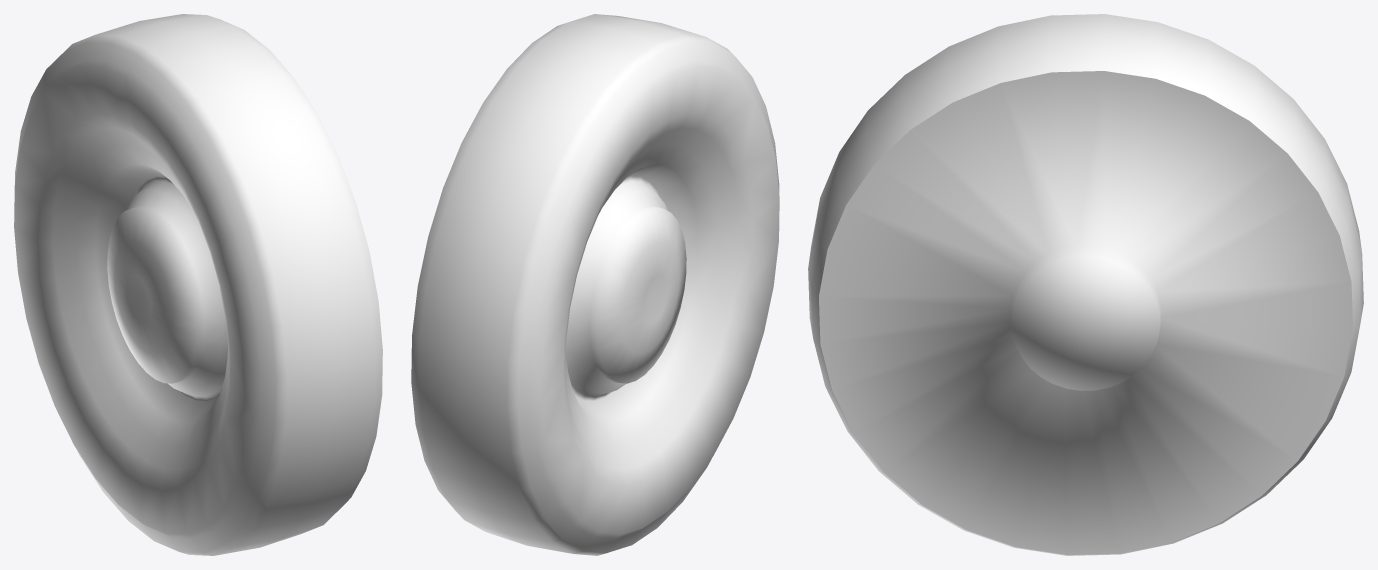
The picture shows the model from 3 angles, left to right: view 1: azimuth 30°, elevation 25°; view 2: azimuth 150°, elevation 25°; view 3: azimuth 270°, elevation 25°; orthographic projection. The views are drawn at different scales.
Bounding box in the file's own units: 0.2082 × 0.6637 × 0.6637.
Materials: 1 (1 with a texture image).
